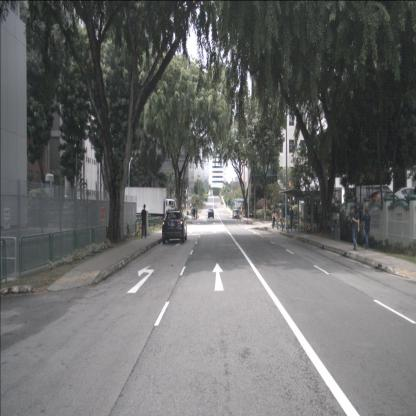cone: (247, 217, 249, 224)
